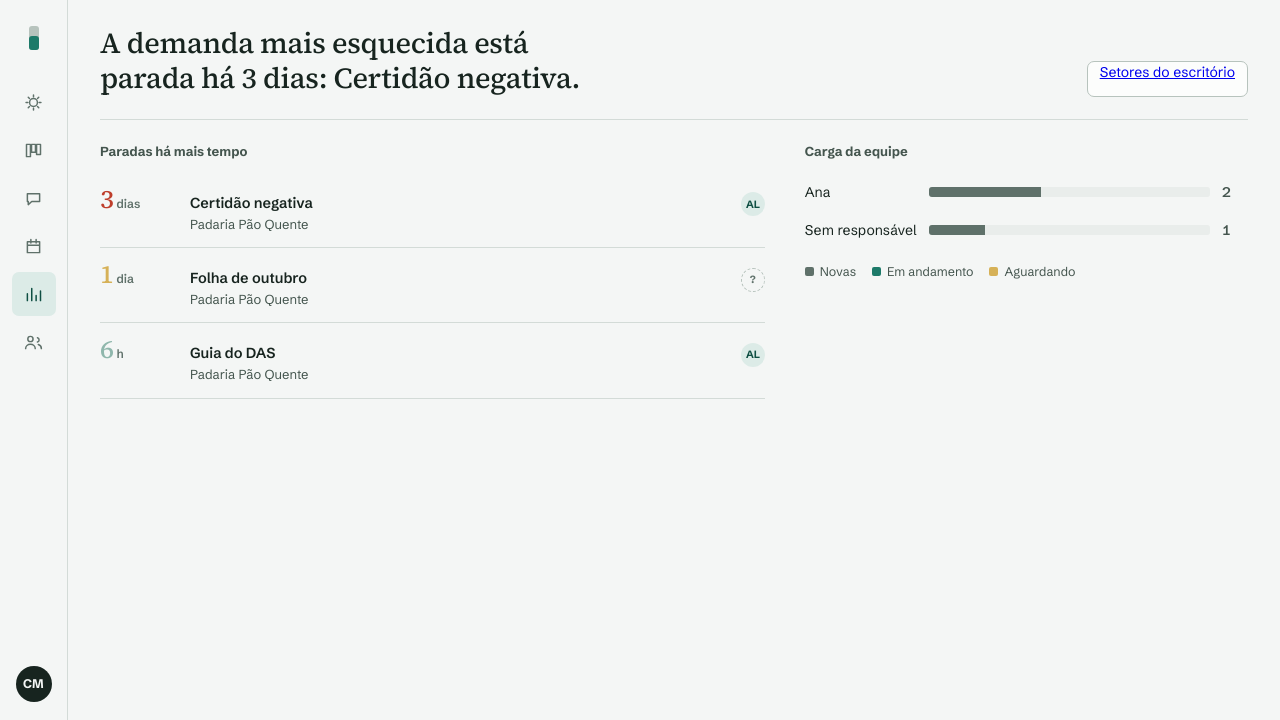
it: owner panel › lists the stuck demands, oldest first, and opens one in the drawer
The image size is (1280, 720).
What coordinates should you click on to do the following:
click the button that starts with "dias"
I would click on:
 (251, 203)
Its box is [100,173,765,248].
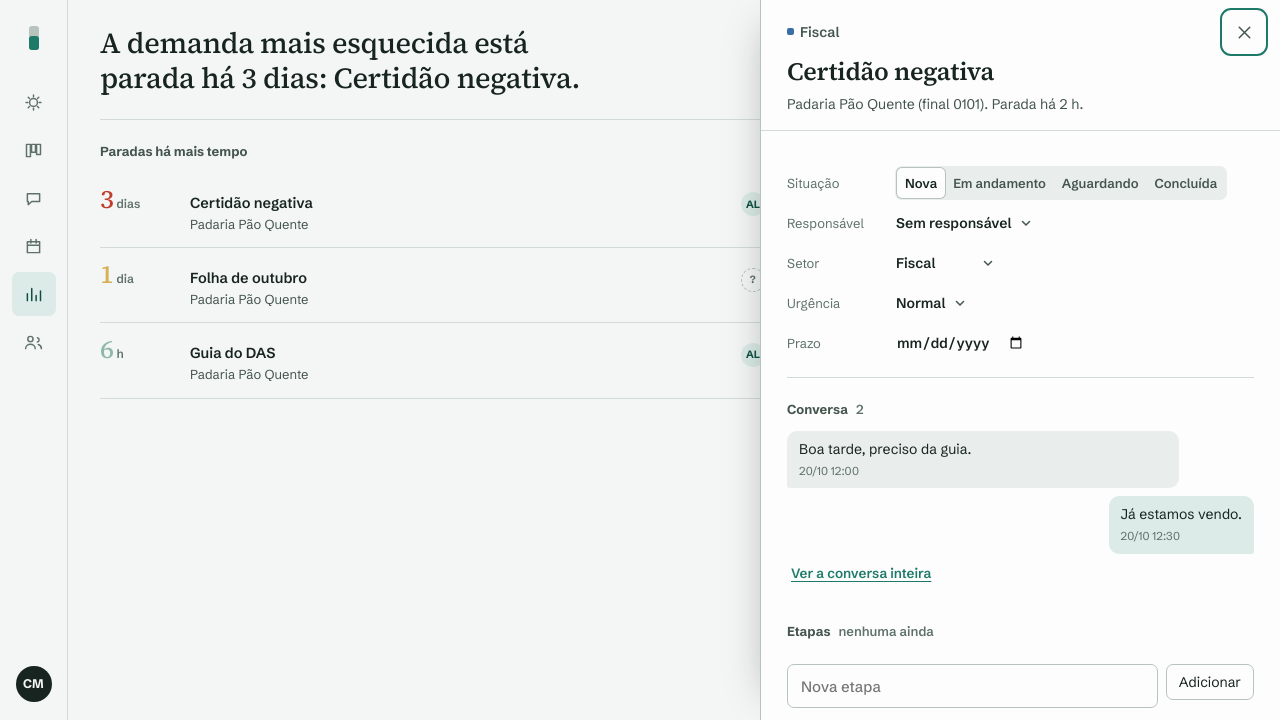
Expected: the dialog is shown, [760,0,1279,719]
